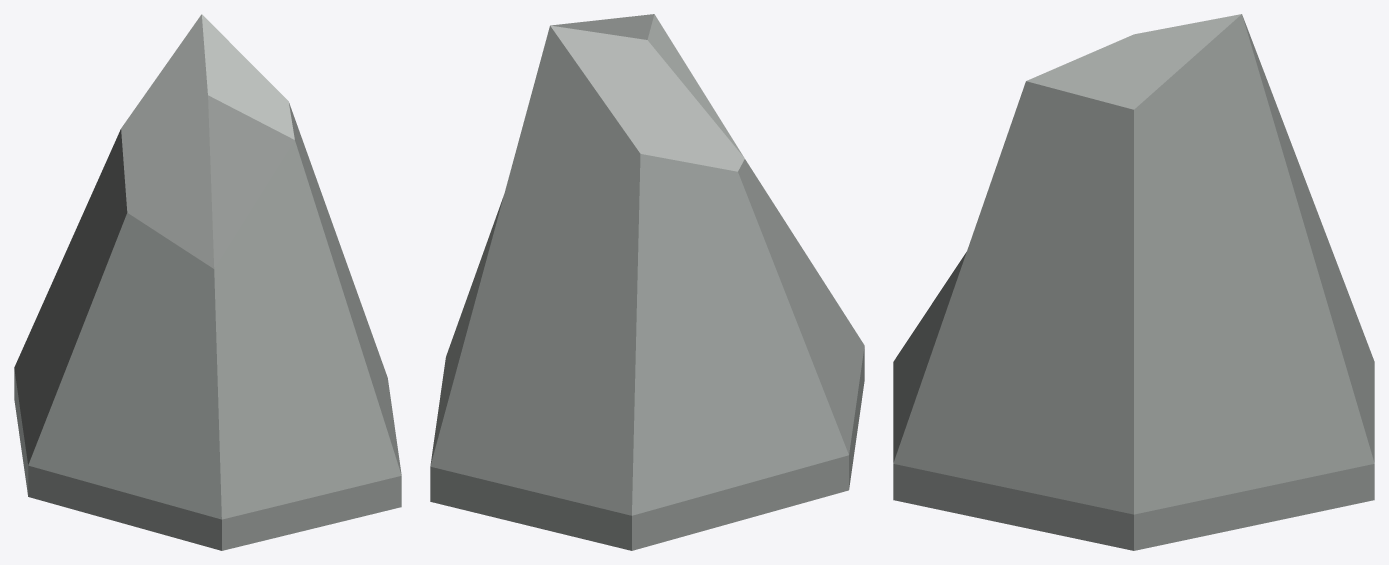
Rendered from Mountain7.fbx.
3 renders of one model, left to right at view 1: azimuth 30°, elevation 25°; view 2: azimuth 150°, elevation 25°; view 3: azimuth 270°, elevation 25°, orthographic. The views are drawn at different scales.
Parts seen in each view (by area): view 1: Mountain7; view 2: Mountain7; view 3: Mountain7.
Part boxes in pixels (bbox=[...]): Mountain7: bbox=[14, 14, 401, 550]; Mountain7: bbox=[430, 14, 864, 550]; Mountain7: bbox=[893, 14, 1374, 550].
Bounding box in the file's own units: 1200 × 1260 × 1200.
